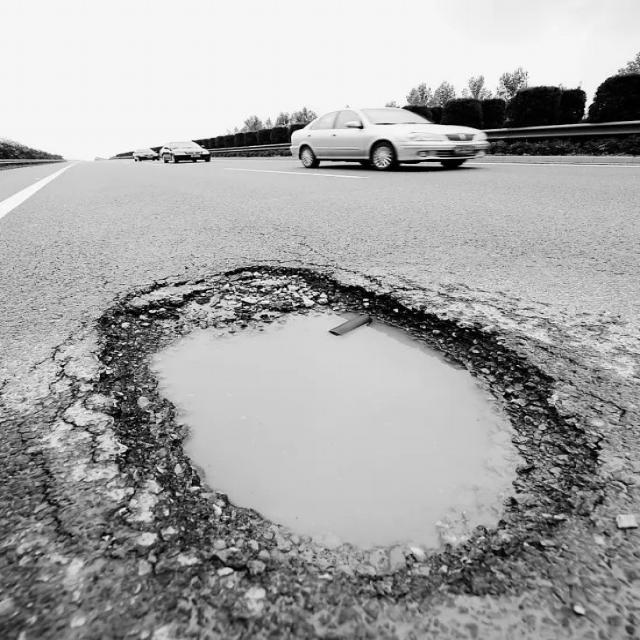Pothole: (97, 267, 598, 599)
